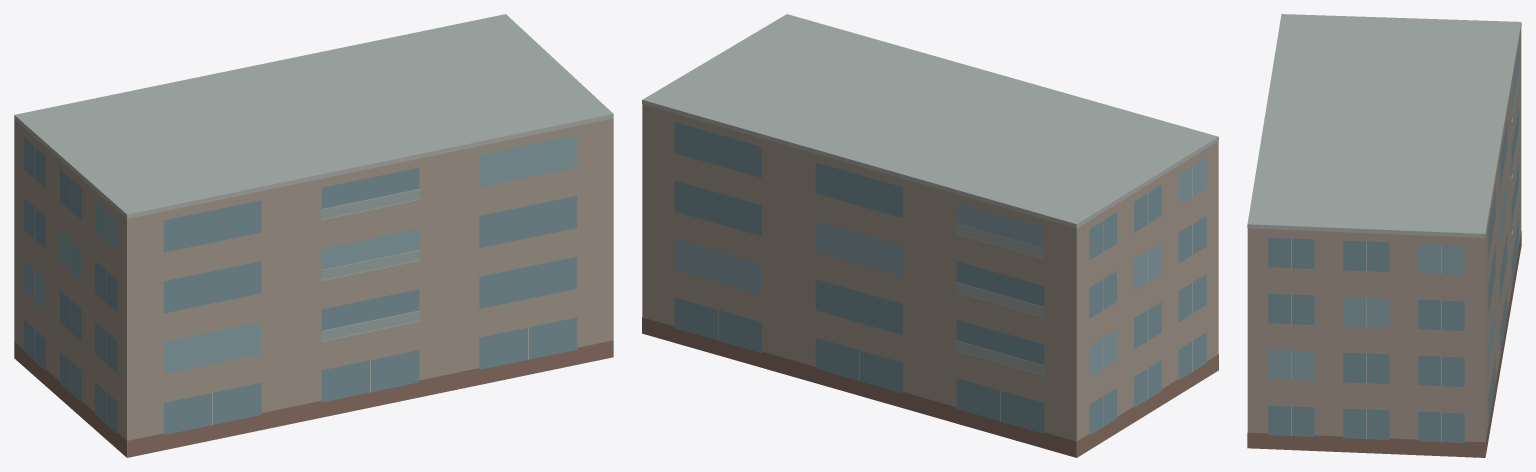
File: survey-upis-32870394.glb
3 views of the same model, side by side, from view 1: azimuth 30°, elevation 25°; view 2: azimuth 150°, elevation 25°; view 3: azimuth 270°, elevation 25° (orthographic). The views are drawn at different scales.
Visible parts, largest first — view 1: survey-upis-32870394.tmp; view 2: survey-upis-32870394.tmp; view 3: survey-upis-32870394.tmp.
Part boxes in pixels (x1=…): survey-upis-32870394.tmp: x1=14, y1=14, x2=613, y2=457; survey-upis-32870394.tmp: x1=642, y1=14, x2=1218, y2=457; survey-upis-32870394.tmp: x1=1247, y1=14, x2=1521, y2=457.
Size of the model in its own units: 27.97 by 13.28 by 14.73.
